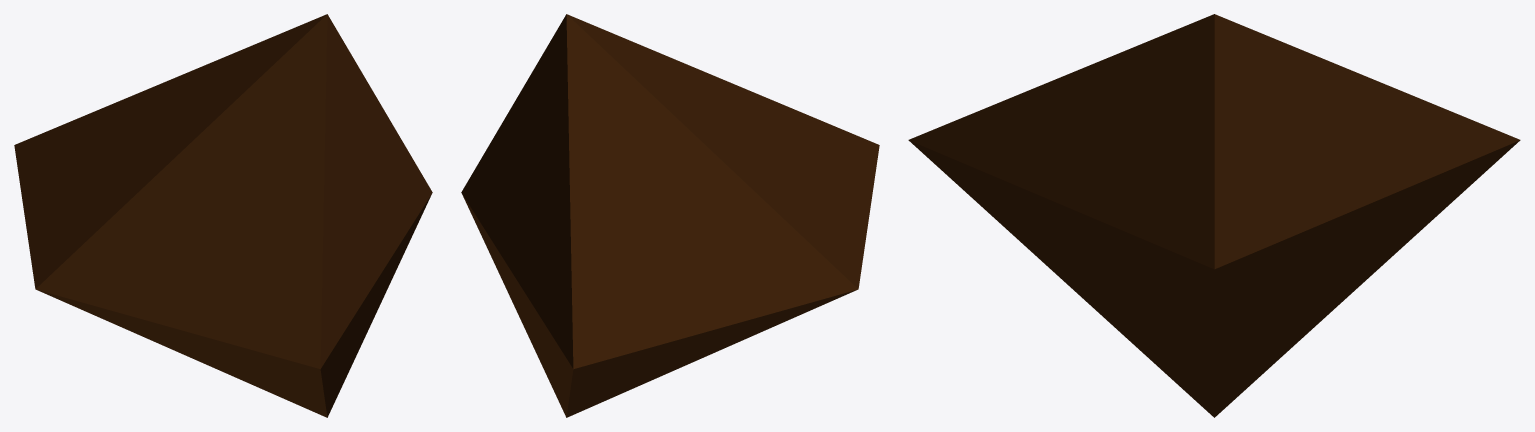
Rendered from campfire_little_dark_particle.fbx.
The picture shows the model from 3 angles, left to right: view 1: azimuth 30°, elevation 25°; view 2: azimuth 150°, elevation 25°; view 3: azimuth 270°, elevation 25°; orthographic projection.
Visible parts, largest first — view 1: campfire_fire_04; view 2: campfire_fire_04; view 3: campfire_fire_04.
Part boxes in pixels (x1,y1,x2,y2): campfire_fire_04: (14, 14, 432, 417); campfire_fire_04: (461, 14, 879, 417); campfire_fire_04: (908, 14, 1520, 417).
Size of the model in its own units: 1.3 by 1.26 by 1.73.
